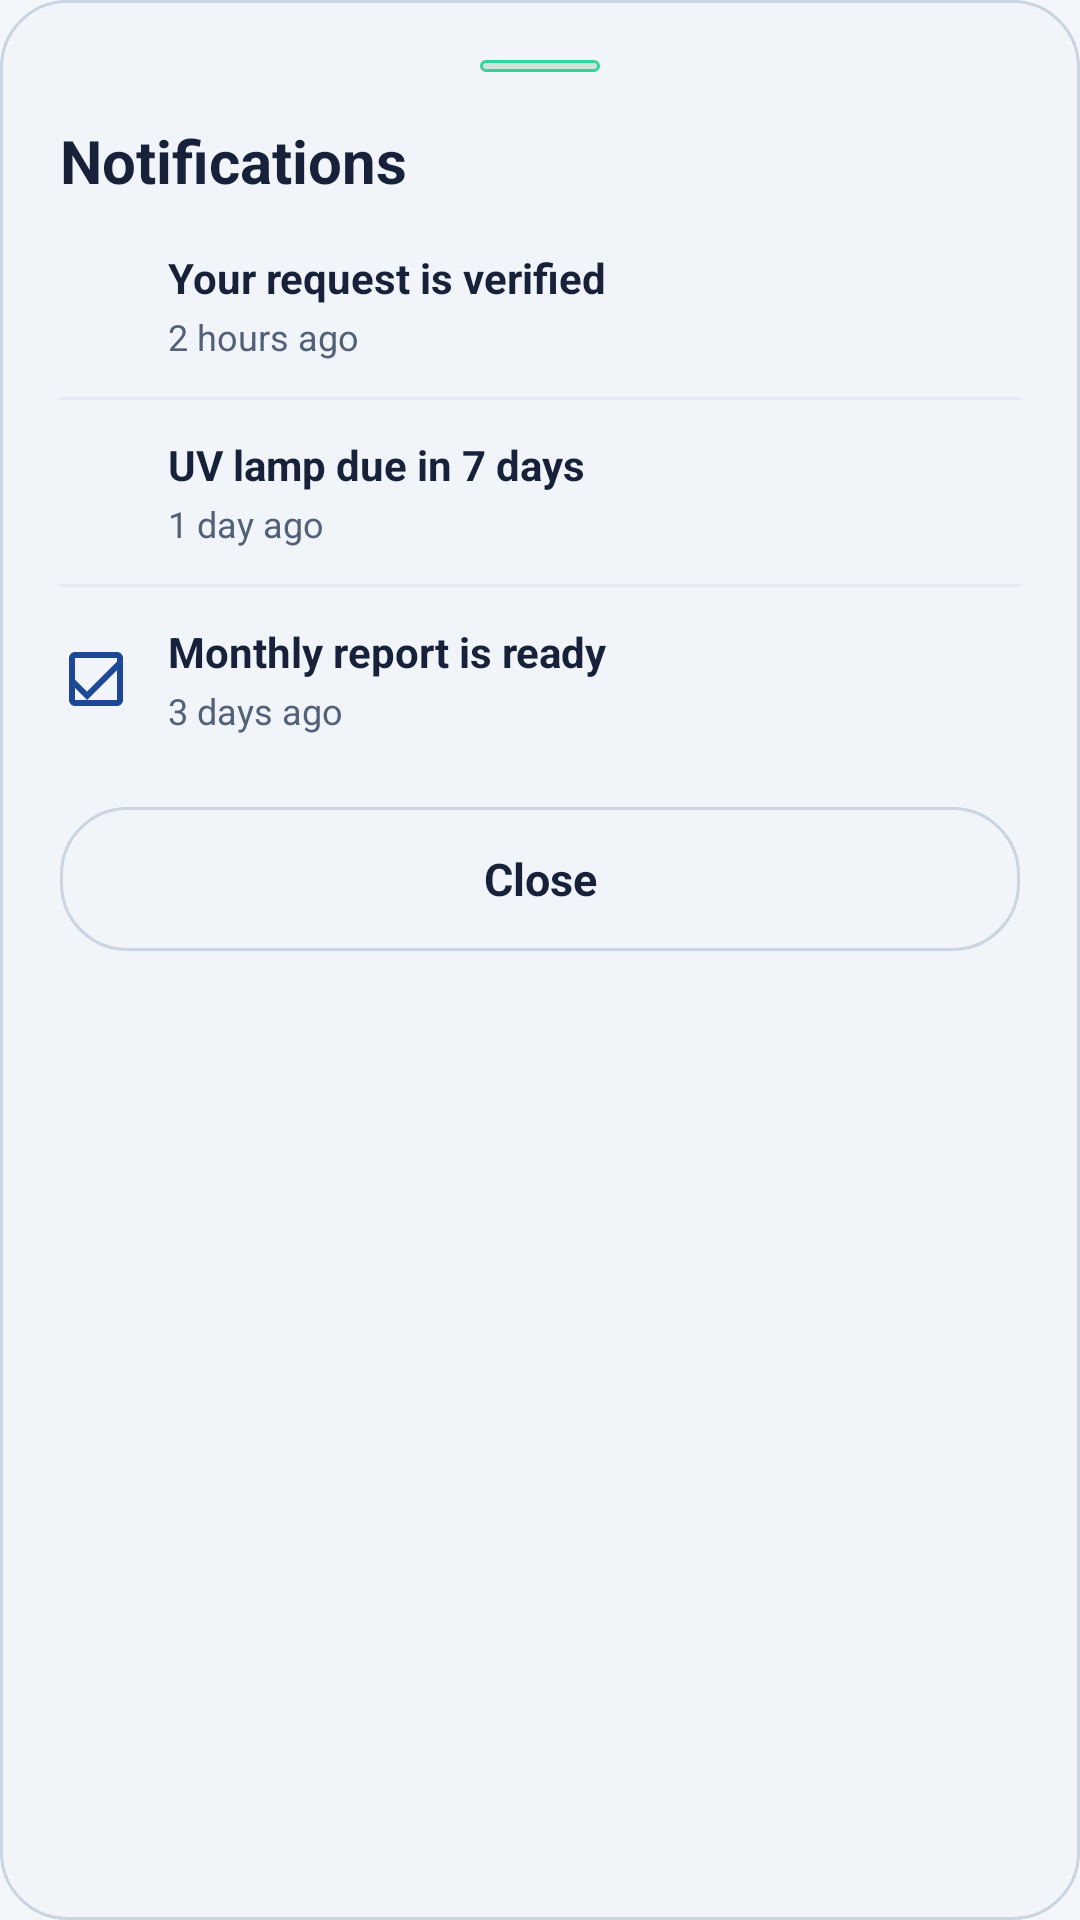

Locate icon controls on the screen. Image size 1080x1920, boxes as [x1, y1, x2, y2].
checklist: [69, 652, 123, 706]
